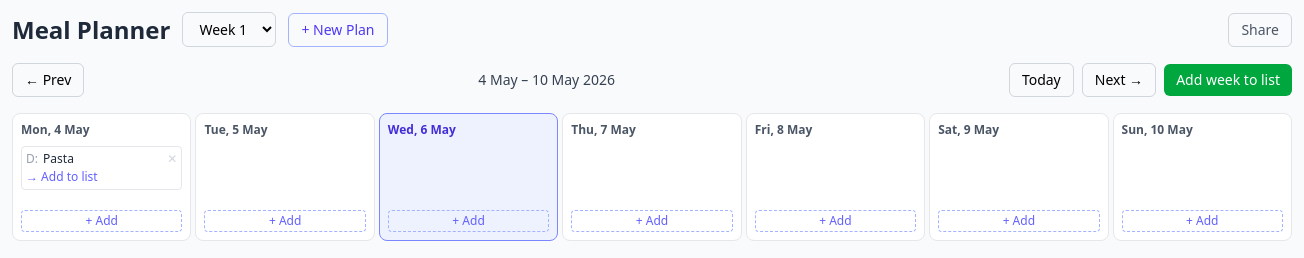
Test: MealPlannerPage › Add to list shows success message on ok response
Expected: the text "Pasta" is shown, left=43, top=150, right=74, bottom=167
Click the button titled "add ingredients to shopping list" at (62, 177), box left=26, top=169, right=98, bottom=185
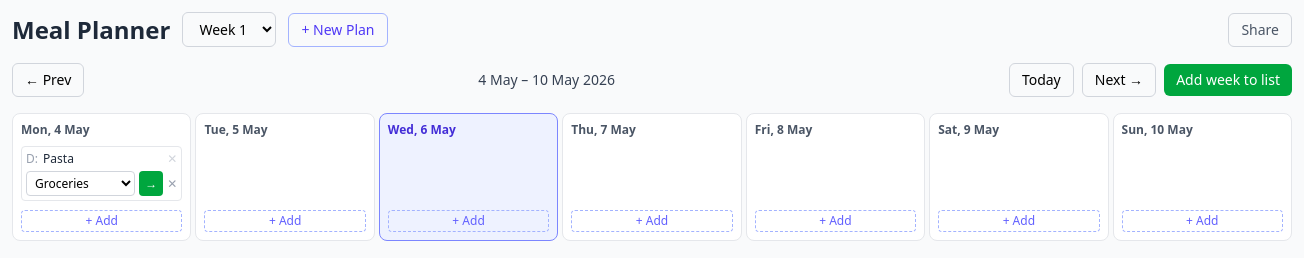
Click the button "→" at (151, 184), box left=139, top=171, right=163, bottom=196
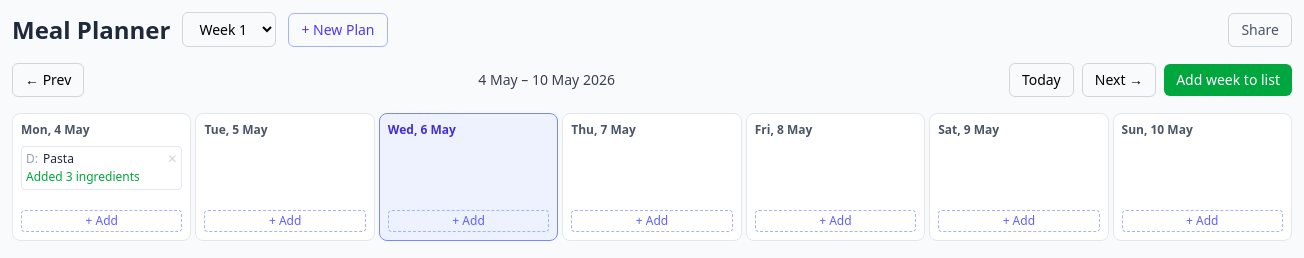
Result: the text "Added 3 ingredients" is shown at left=26, top=168, right=140, bottom=185
